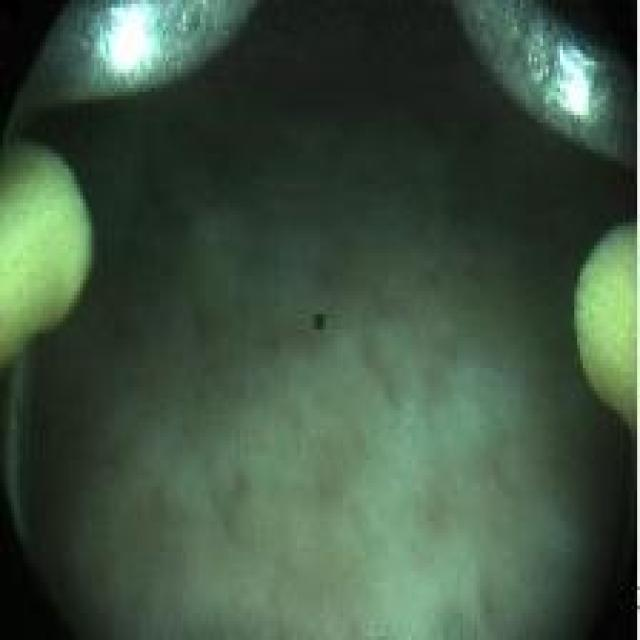blur: (95, 283, 558, 588)
color misalignment: (307, 299, 332, 339)
contrast: (5, 93, 224, 571), (198, 0, 502, 129), (467, 112, 636, 268)
instrument: (466, 10, 632, 167), (10, 7, 266, 104), (1, 135, 93, 370), (570, 215, 637, 438)
specularity: (101, 7, 161, 75), (554, 41, 595, 124)
